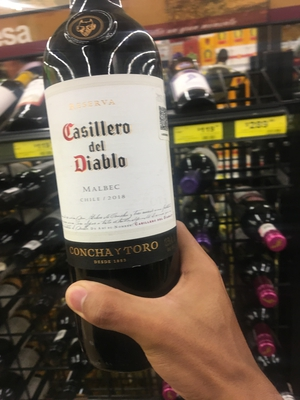casillero del diablo malbec: (35, 17, 211, 380)
